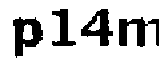1: (46, 5, 78, 49)
4: (79, 3, 115, 49)
m: (116, 13, 160, 55)
p: (9, 13, 43, 60)
